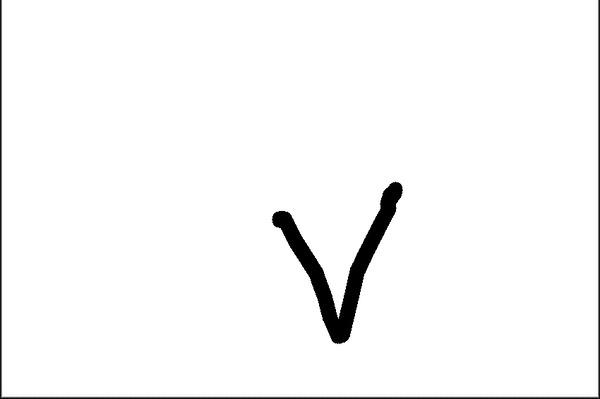V: (262, 179, 414, 347)
